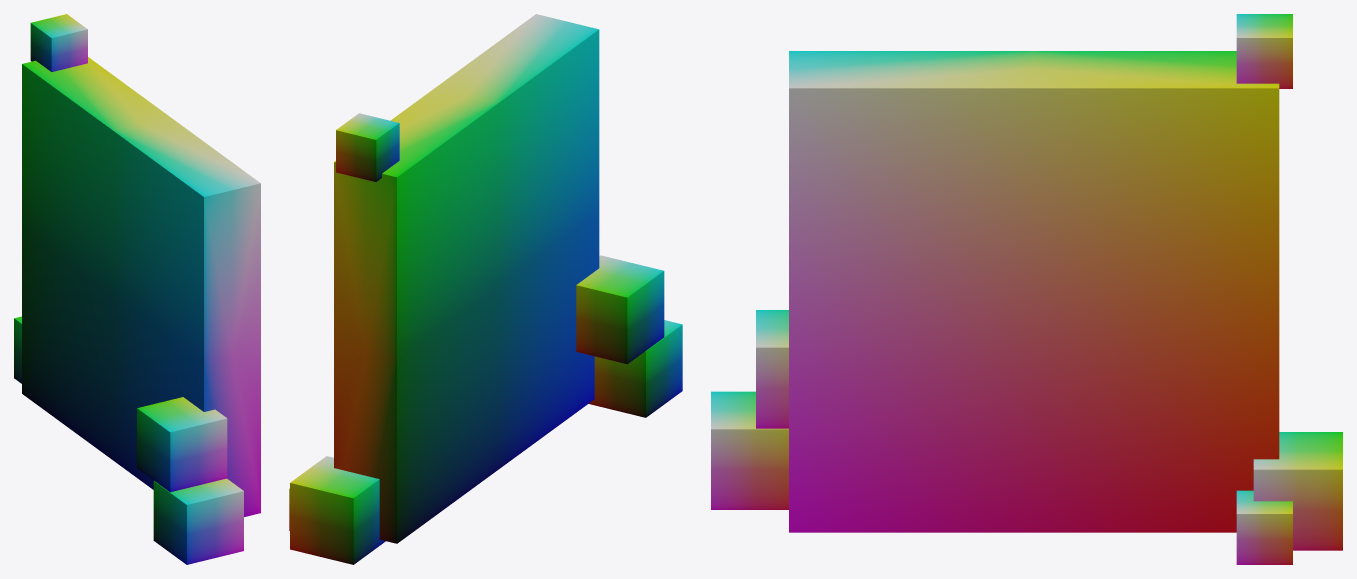
File: plate.fbx
3 views of the same model, side by side, from view 1: azimuth 30°, elevation 25°; view 2: azimuth 150°, elevation 25°; view 3: azimuth 270°, elevation 25° (orthographic). The views are drawn at different scales.
Visible parts, largest first — view 1: polySurface1; view 2: polySurface1; view 3: polySurface1.
Boxes of the visible parts, box(x1,y1,x2,y2) form: polySurface1: box(14, 14, 260, 564); polySurface1: box(289, 14, 682, 564); polySurface1: box(711, 14, 1342, 564).
Size of the model in its own units: 0.6949 by 1.78 by 2.04.
